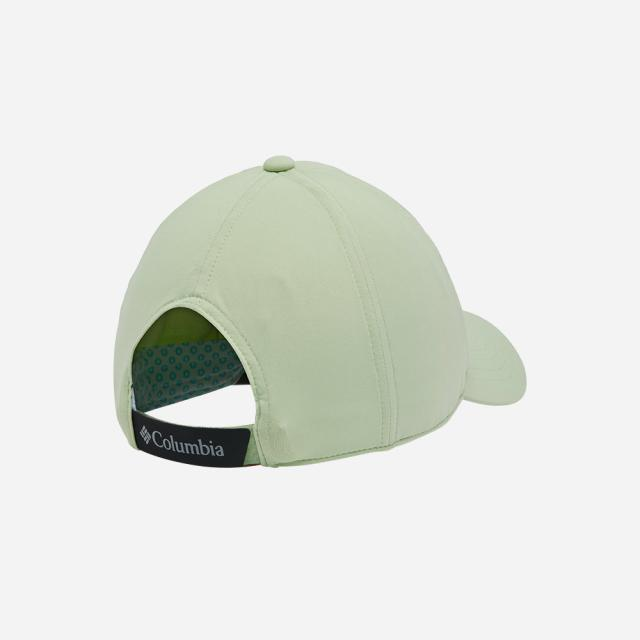Nonhelmet: (109, 152, 528, 471)
